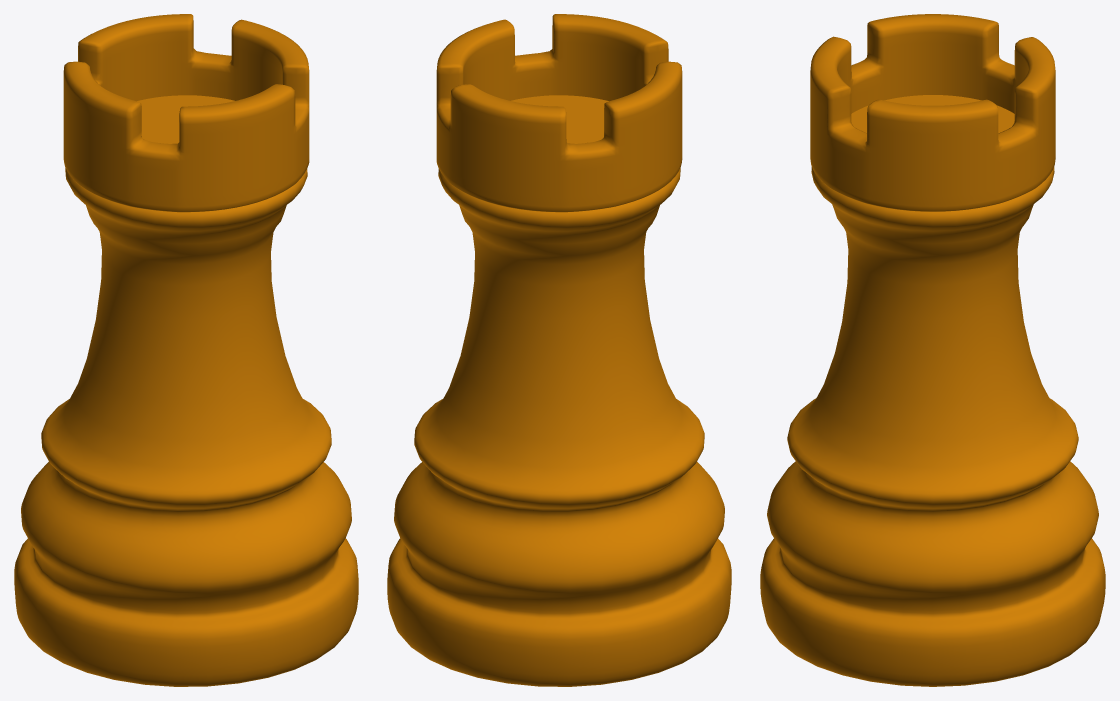
The model's file is rook.obj.
The picture shows the model from 3 angles, left to right: view 1: azimuth 30°, elevation 25°; view 2: azimuth 150°, elevation 25°; view 3: azimuth 270°, elevation 25°; orthographic projection.
Parts seen in each view (by area): view 1: Rook; view 2: Rook; view 3: Rook.
Part boxes in pixels (x1,y1,x2,y2): Rook: [14, 14, 358, 686]; Rook: [387, 14, 731, 686]; Rook: [760, 14, 1105, 686].
Size of the model in its own units: 0.5002 by 0.8963 by 0.5002.
